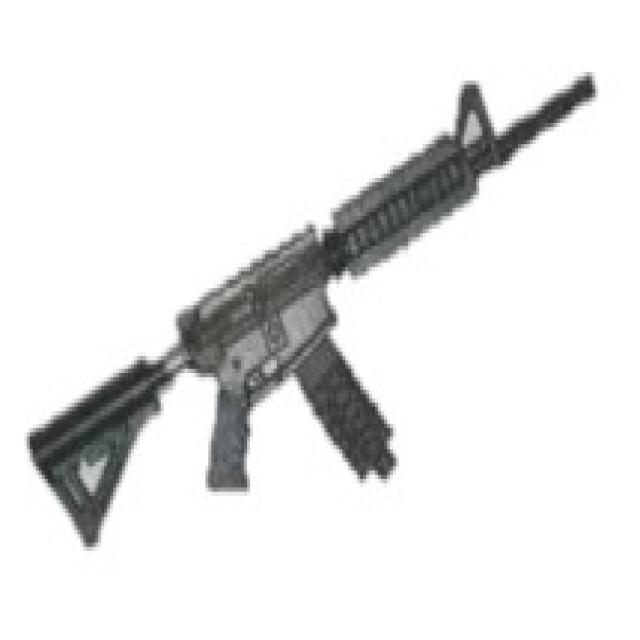rifle: (22, 65, 603, 563)
